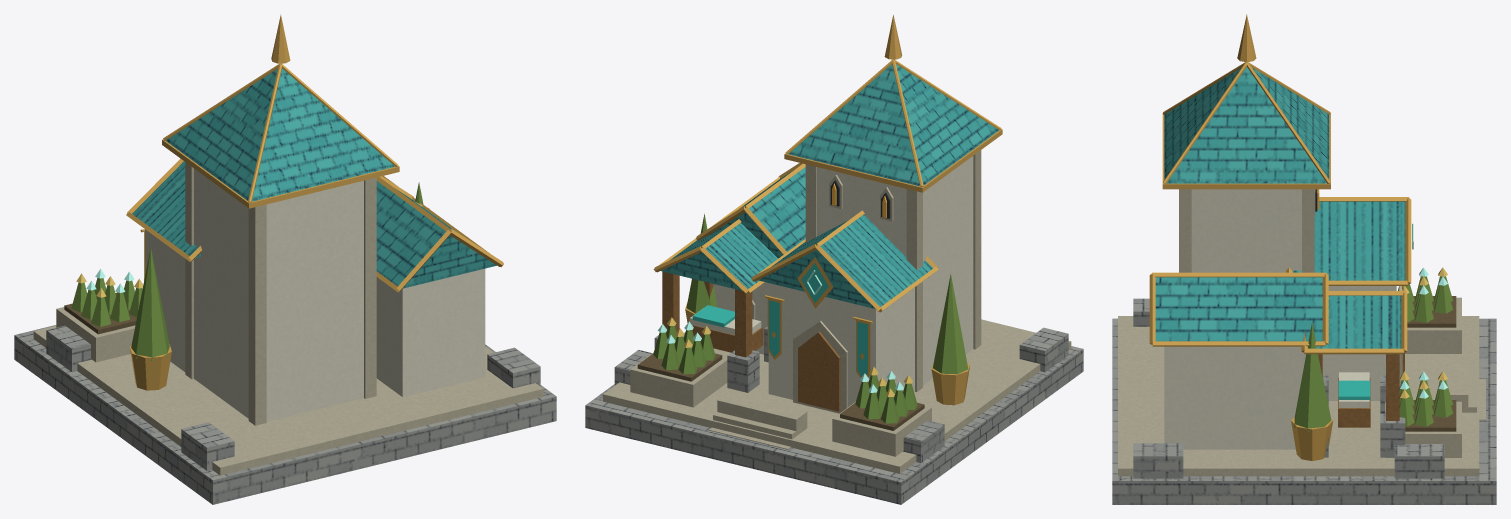
The model's file is Hospital_2.fbx.
The picture shows the model from 3 angles, left to right: view 1: azimuth 30°, elevation 25°; view 2: azimuth 150°, elevation 25°; view 3: azimuth 270°, elevation 25°; orthographic projection. The views are drawn at different scales.
Visible parts, largest first — view 1: Hospital_2; view 2: Hospital_2; view 3: Hospital_2.
Part boxes in pixels (x1,y1,x2,y2): Hospital_2: (14, 14, 556, 504); Hospital_2: (585, 14, 1083, 504); Hospital_2: (1112, 14, 1496, 504).
Size of the model in its own units: 1 by 1.13 by 1.
Materials: 1 (1 with a texture image).
